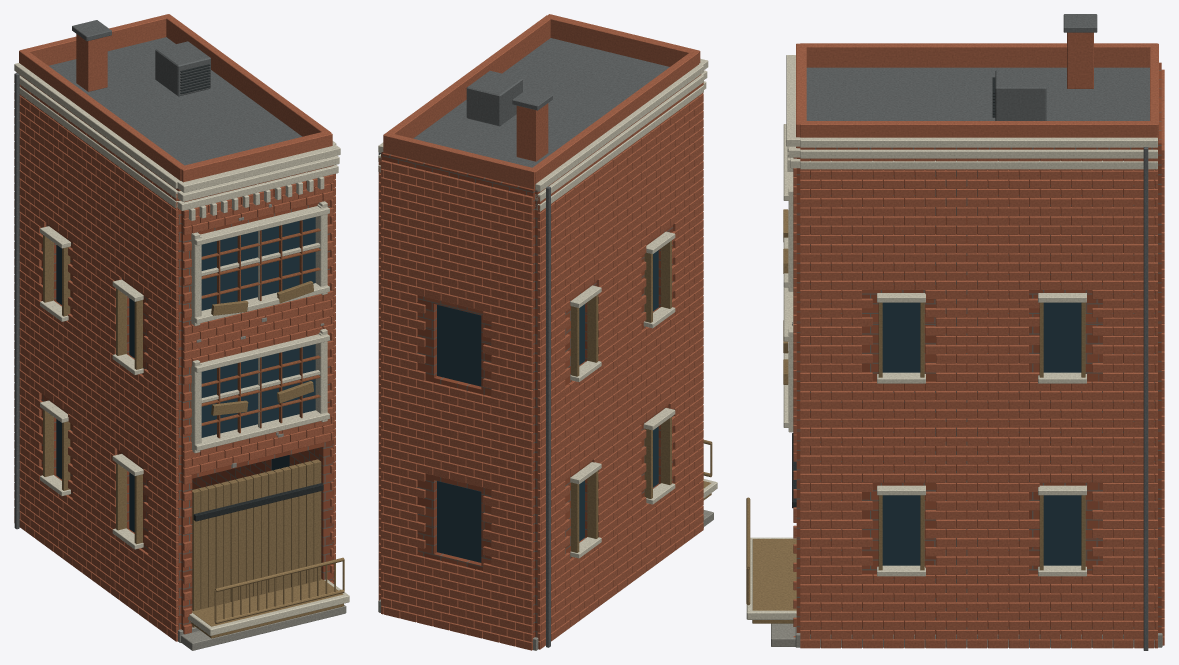
Rendered from WRHS2_lod0.glb.
3 views of the same model, side by side, from view 1: azimuth 30°, elevation 25°; view 2: azimuth 150°, elevation 25°; view 3: azimuth 270°, elevation 25° (orthographic). The views are drawn at different scales.
Parts seen in each view (by area): view 1: WRHS2_LOD0; view 2: WRHS2_LOD0; view 3: WRHS2_LOD0.
Part boxes in pixels (x1,y1,x2,y2): WRHS2_LOD0: (14,14,349,650); WRHS2_LOD0: (378,14,717,650); WRHS2_LOD0: (746,14,1164,650).
Bounding box in the file's own units: 3.71 × 10.45 × 7.02.
12 materials, 10 textured.
